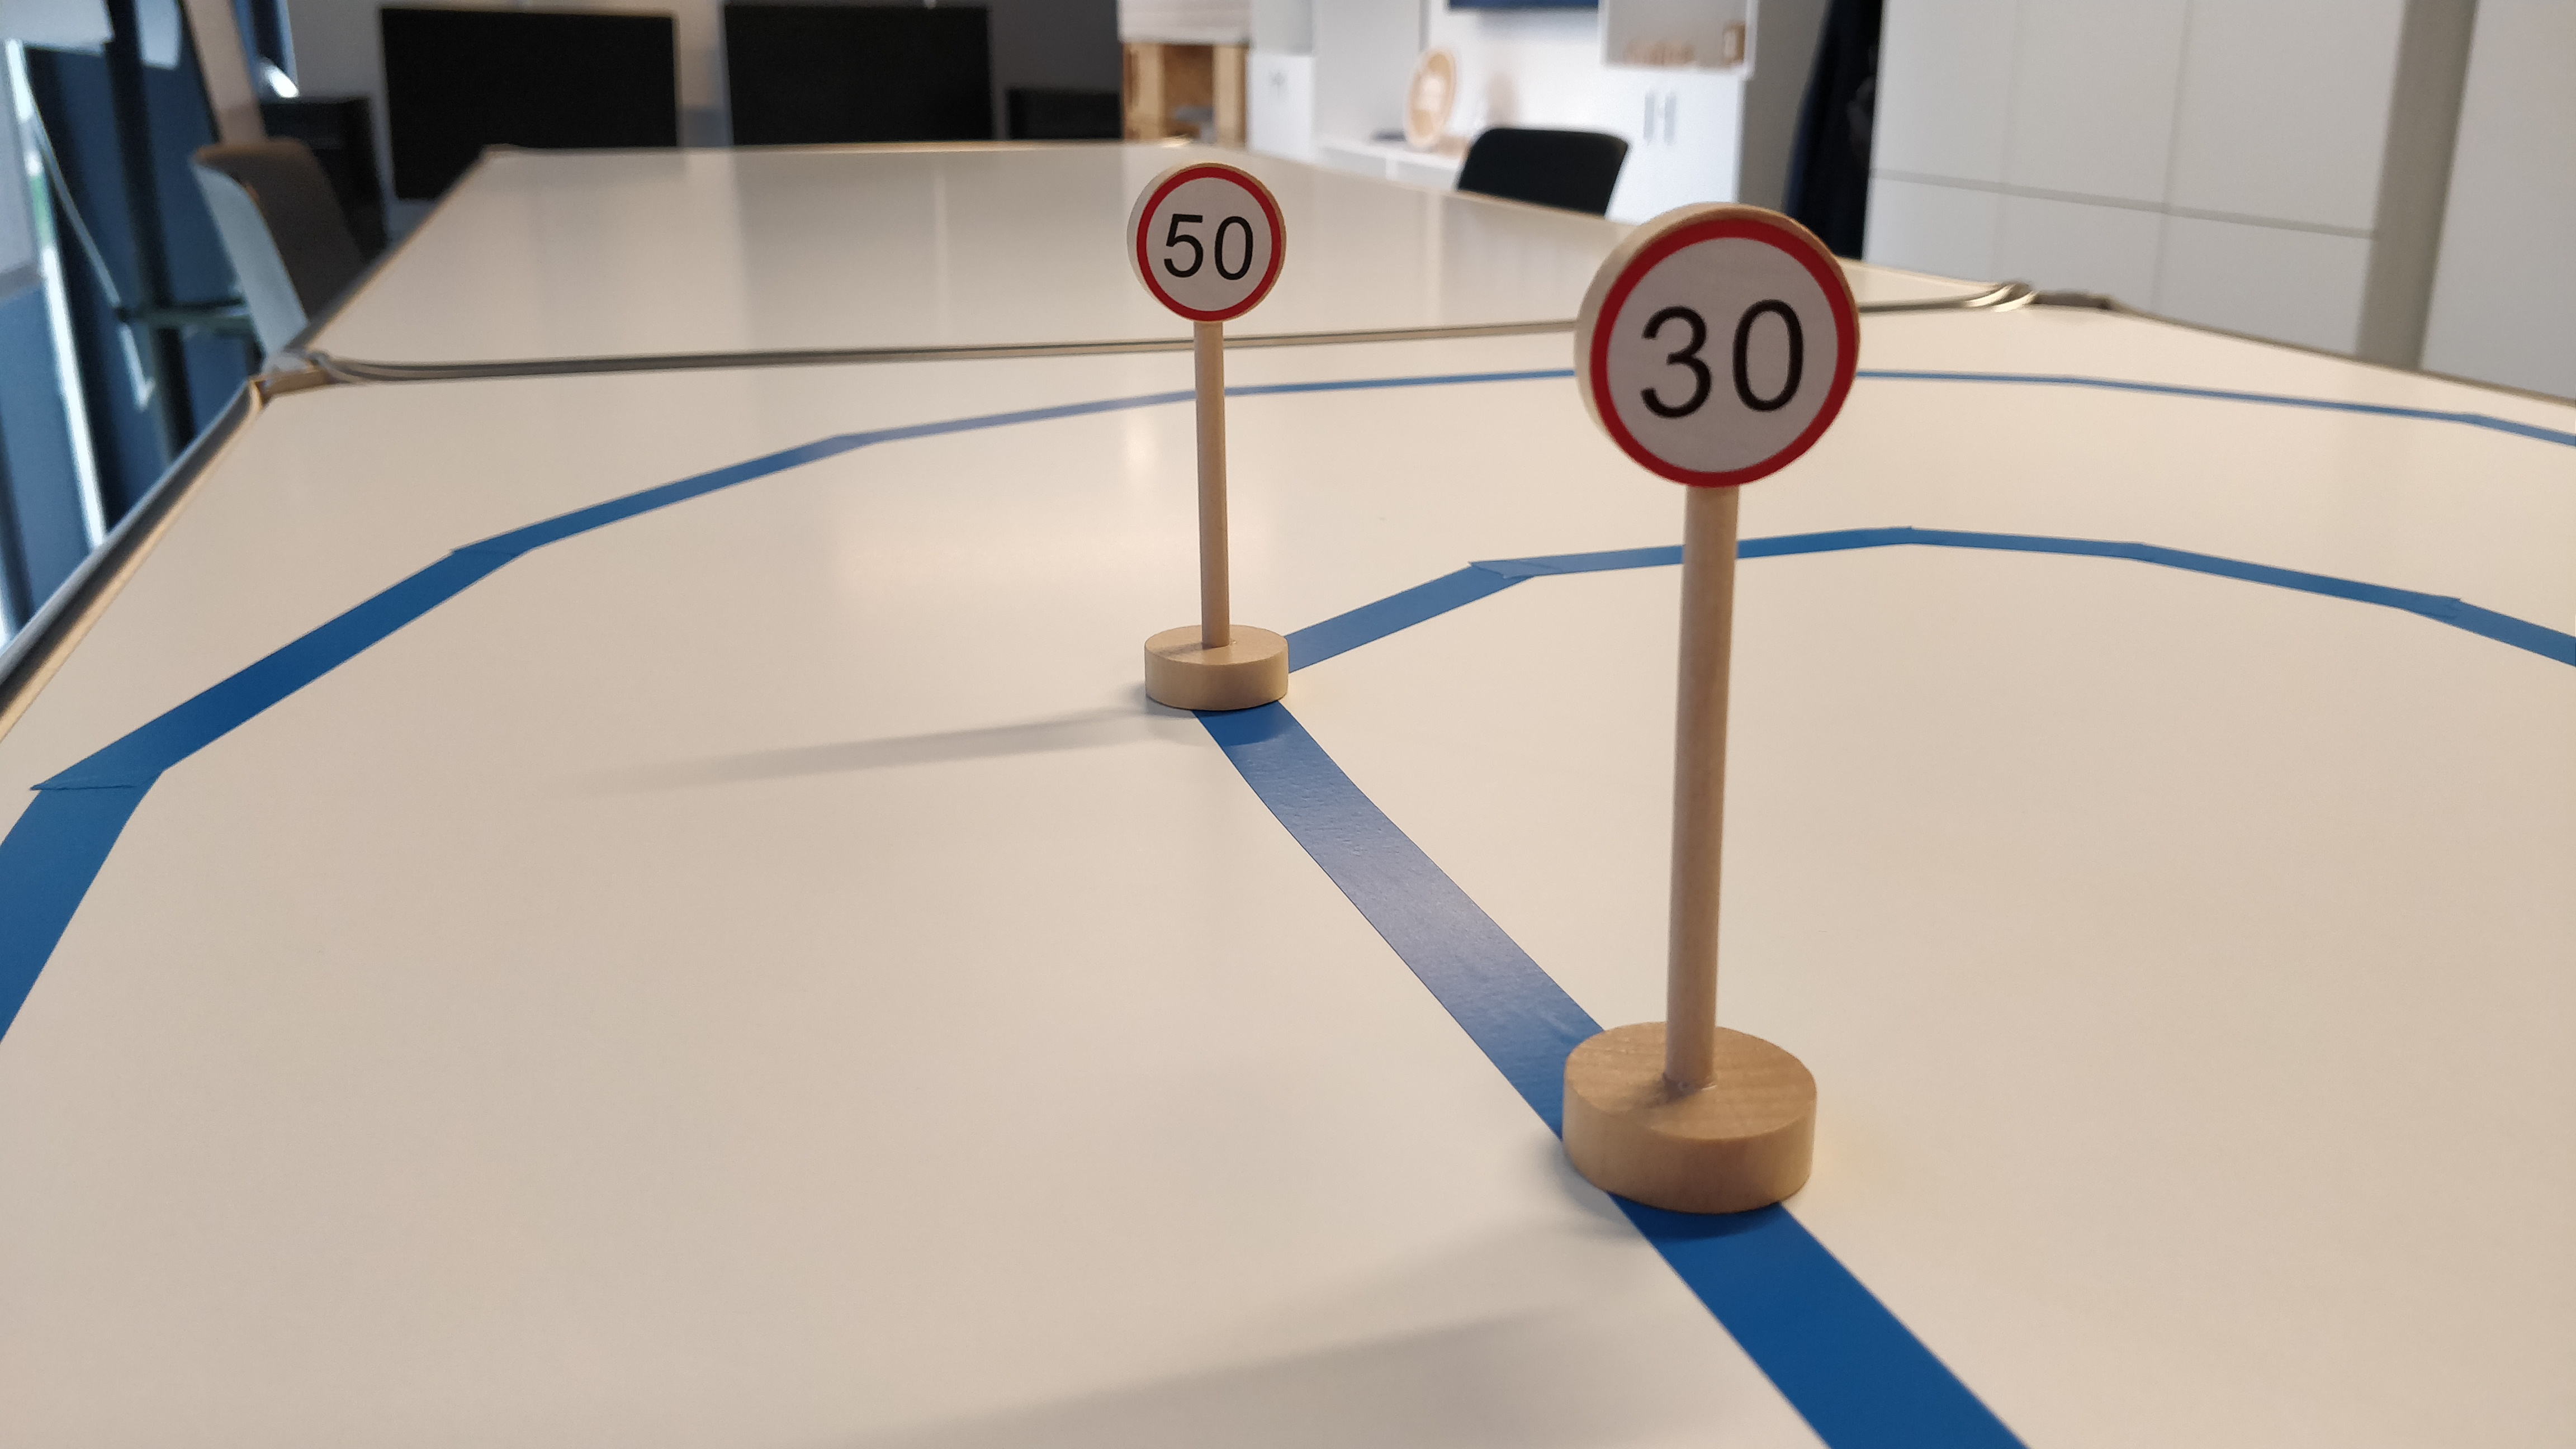Speed Limit 30: (1569, 201, 1865, 491)
Speed Limit 50: (1125, 157, 1292, 327)
